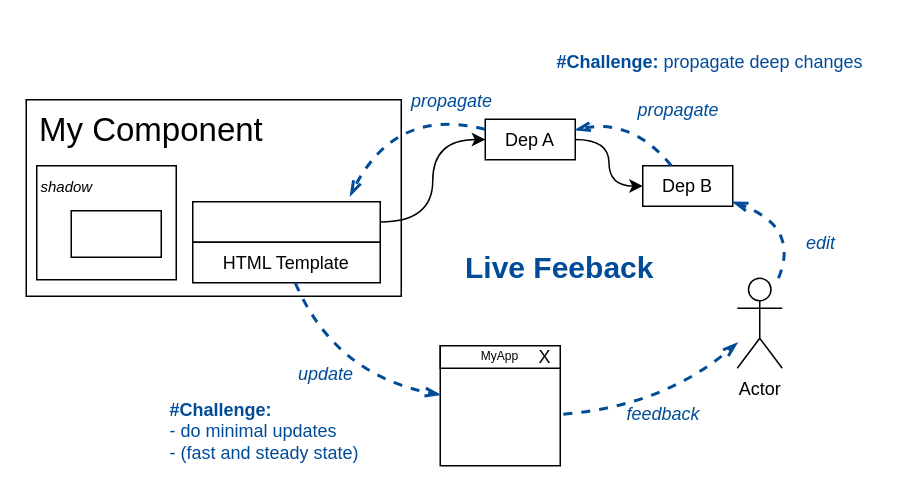
The diagram is 902 pixels wide and 492 high, and some of its shapes have lost their labels. Each missing label, with the centre of its shape:
"JavaScript Module" goes at [285,221].
"sub comp." goes at [115,233].
